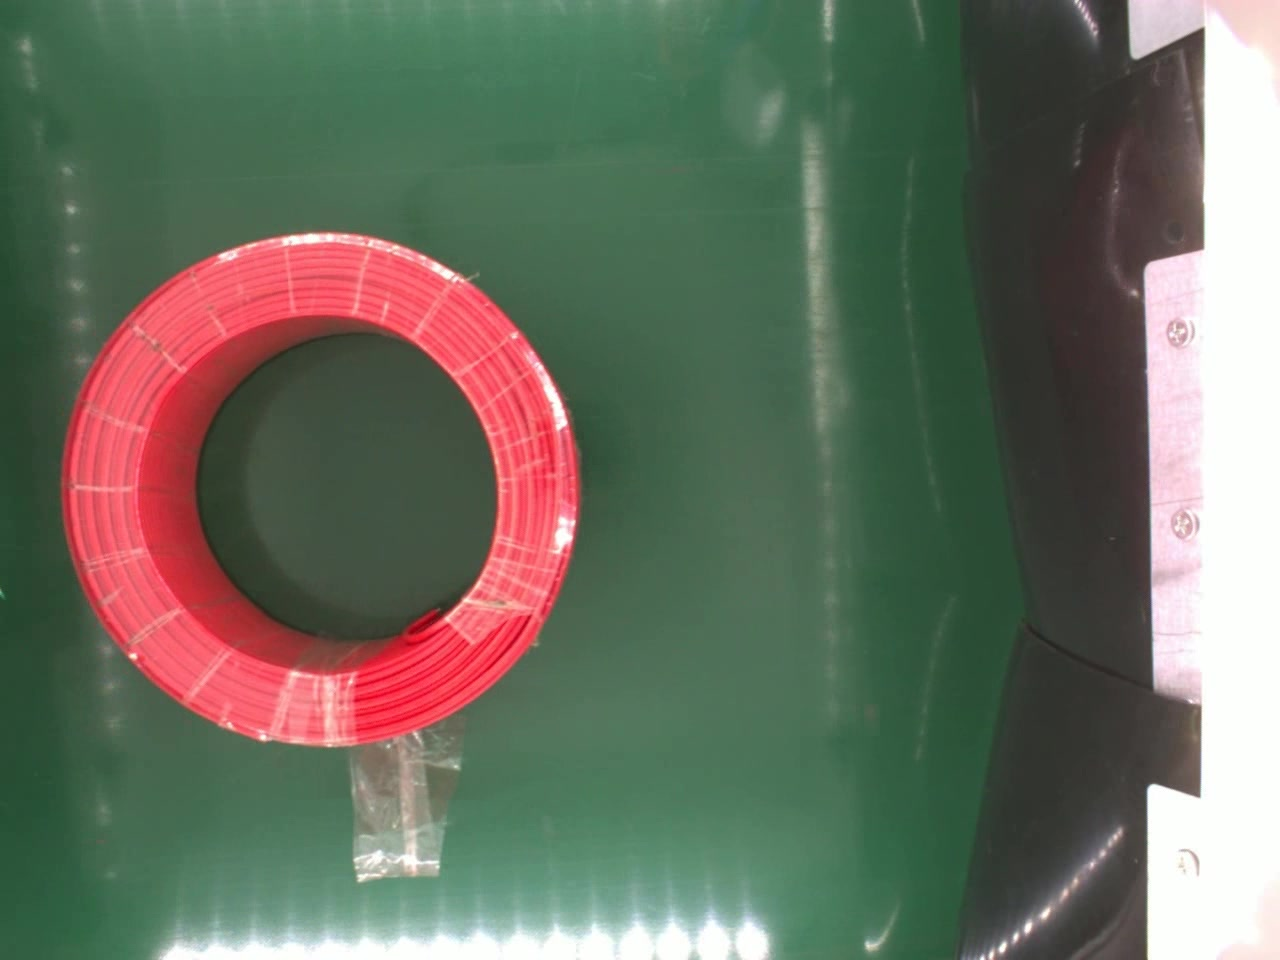red: (60, 223, 590, 746)
